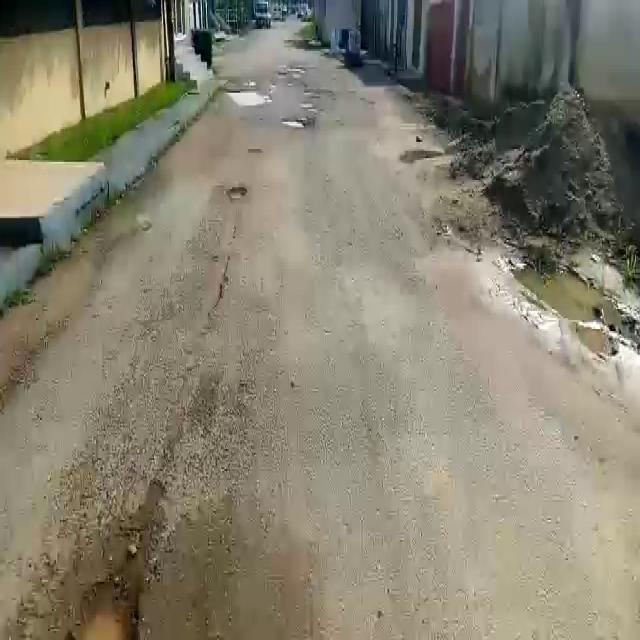Pothole: (72, 585, 132, 639), (226, 89, 272, 106), (278, 114, 309, 127), (225, 185, 248, 201)
